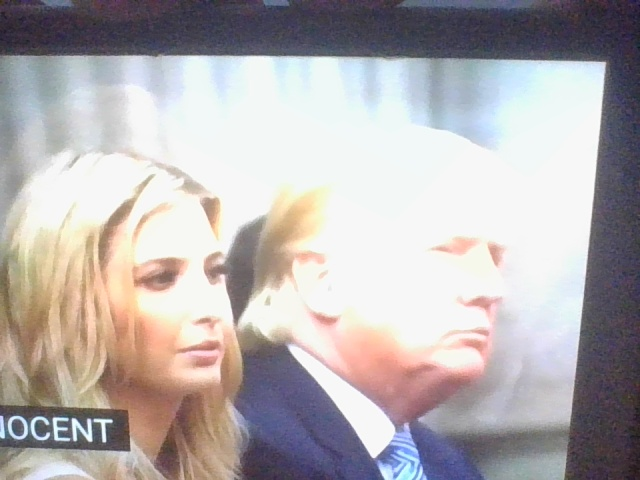fake: (68, 150, 251, 410)
